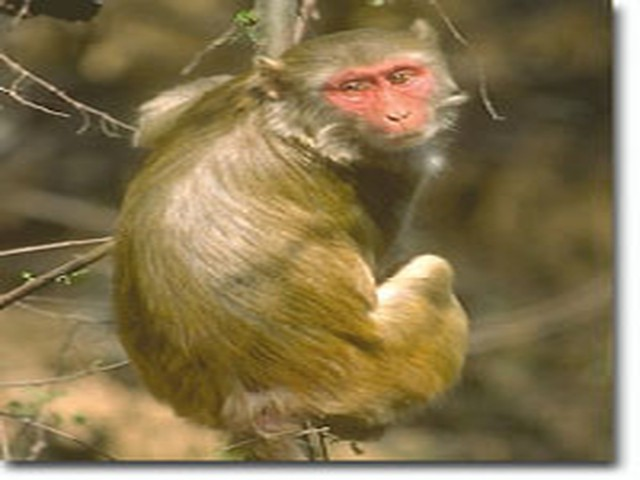Monkey: (112, 13, 480, 445)
